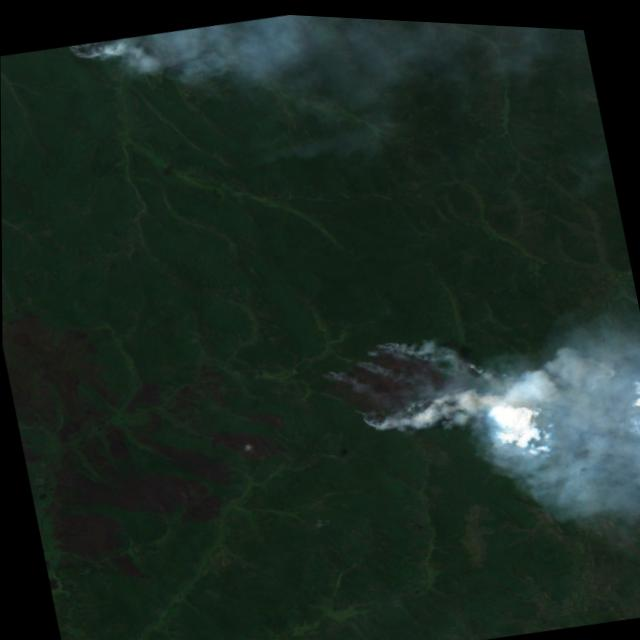fire: (310, 312, 494, 444), (60, 35, 123, 72)
